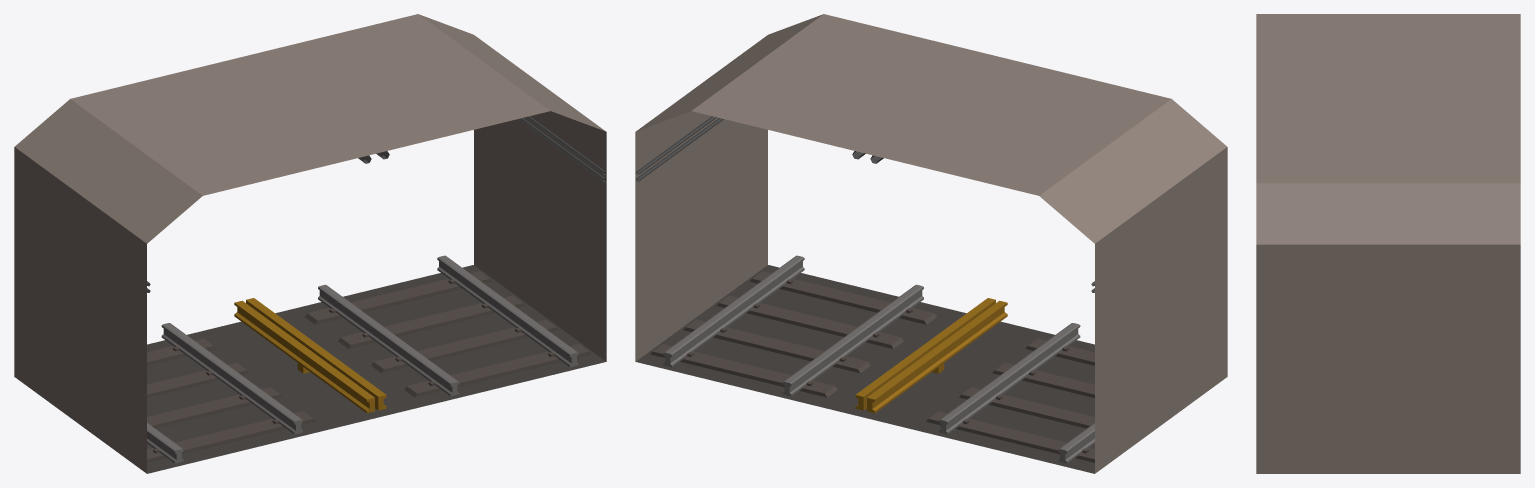
Rendered from SM_Train_Track_Underground_Double_Tunnel_Mid_01.fbx.
3 views of the same model, side by side, from view 1: azimuth 30°, elevation 25°; view 2: azimuth 150°, elevation 25°; view 3: azimuth 270°, elevation 25° (orthographic).
Visible parts, largest first — view 1: SM_Train_Track_Underground_Double_Tunnel_Mid_01; view 2: SM_Train_Track_Underground_Double_Tunnel_Mid_01; view 3: SM_Train_Track_Underground_Double_Tunnel_Mid_01.
Part boxes in pixels (x1,y1,x2,y2): SM_Train_Track_Underground_Double_Tunnel_Mid_01: (14,14,606,473); SM_Train_Track_Underground_Double_Tunnel_Mid_01: (635,14,1227,473); SM_Train_Track_Underground_Double_Tunnel_Mid_01: (1256,14,1520,473).
Bounding box in the file's own units: 700 × 385 × 350.
